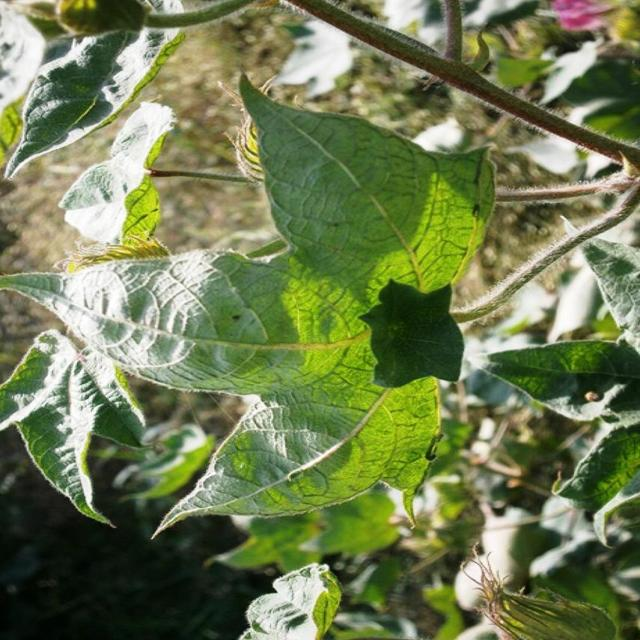Leaf Curl Virus: (105, 158, 531, 472)
